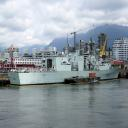Fragata: (8, 39, 123, 88)
